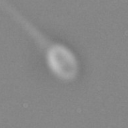normal: (1, 1, 50, 49)
